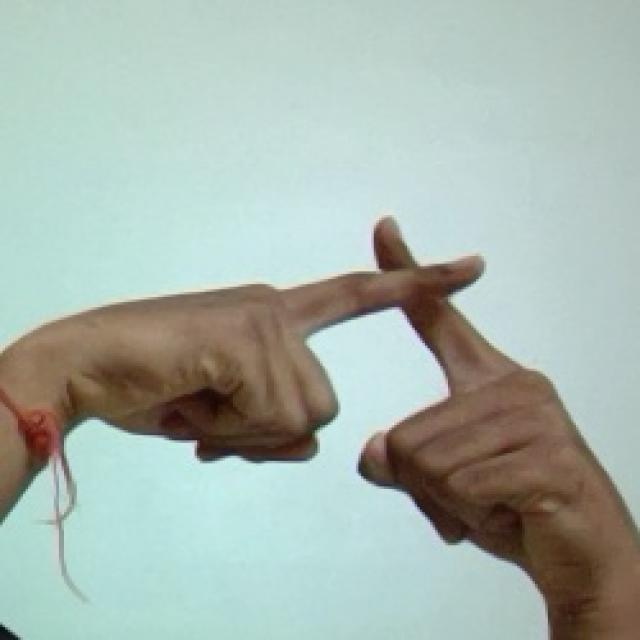Alphabet-X: (63, 208, 632, 616)
